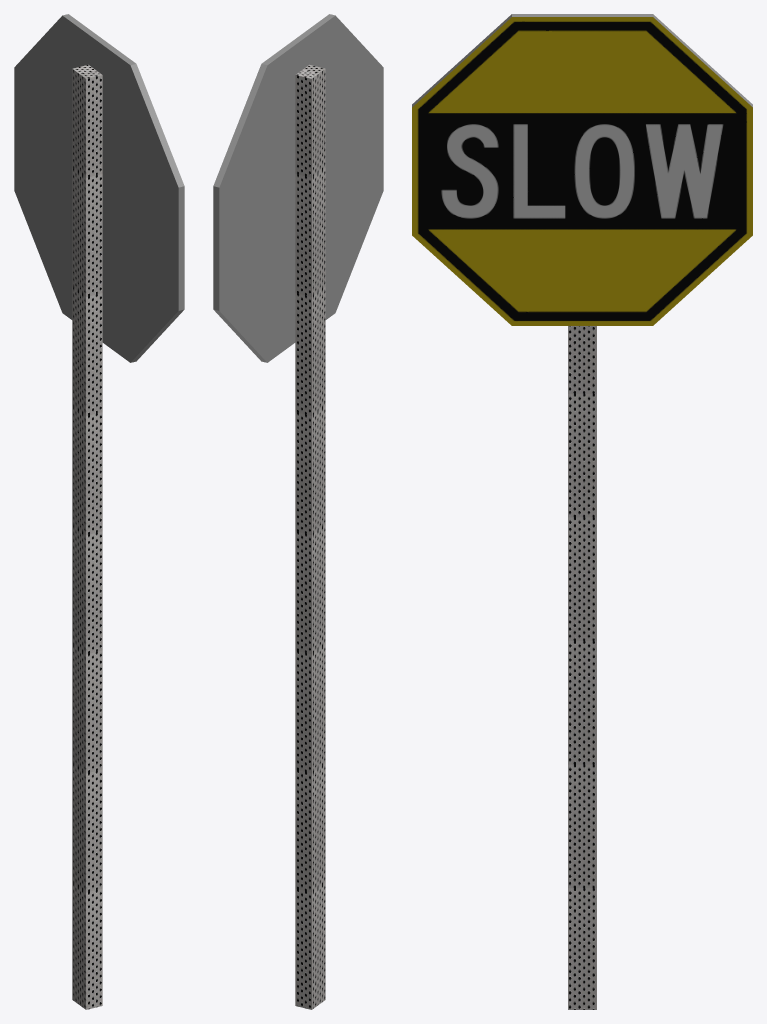
File: Slow.fbx
3 views of the same model, side by side, from view 1: azimuth 30°, elevation 25°; view 2: azimuth 150°, elevation 25°; view 3: azimuth 270°, elevation 25° (orthographic). The views are drawn at different scales.
Visible parts, largest first — view 1: Slow; view 2: Slow; view 3: Slow.
Part boxes in pixels (bbox=[...]): Slow: bbox=[14, 14, 184, 1009]; Slow: bbox=[213, 14, 383, 1009]; Slow: bbox=[412, 14, 752, 1009].
Size of the model in its own units: 5.64 by 221 by 68.58.
